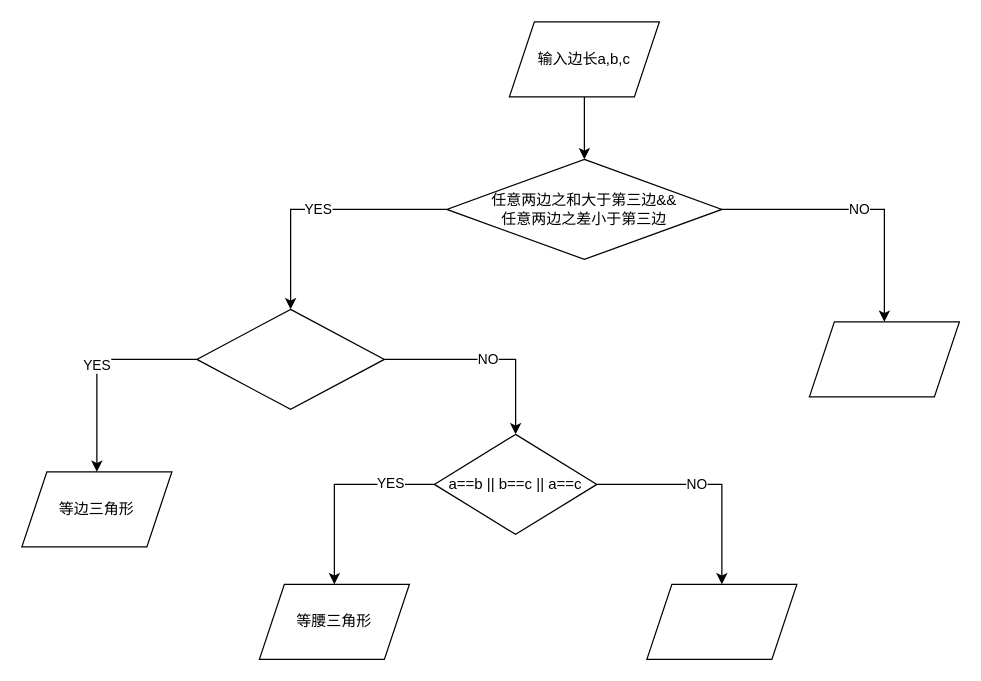
This 981x681 diagram has some shape labels left out. Here are the shapes that lost their labels. From the top down, the centre of each, then its label:
point (290, 358): a==b&&b==c
point (883, 359): 非三角形
point (721, 621): 一般三角形
